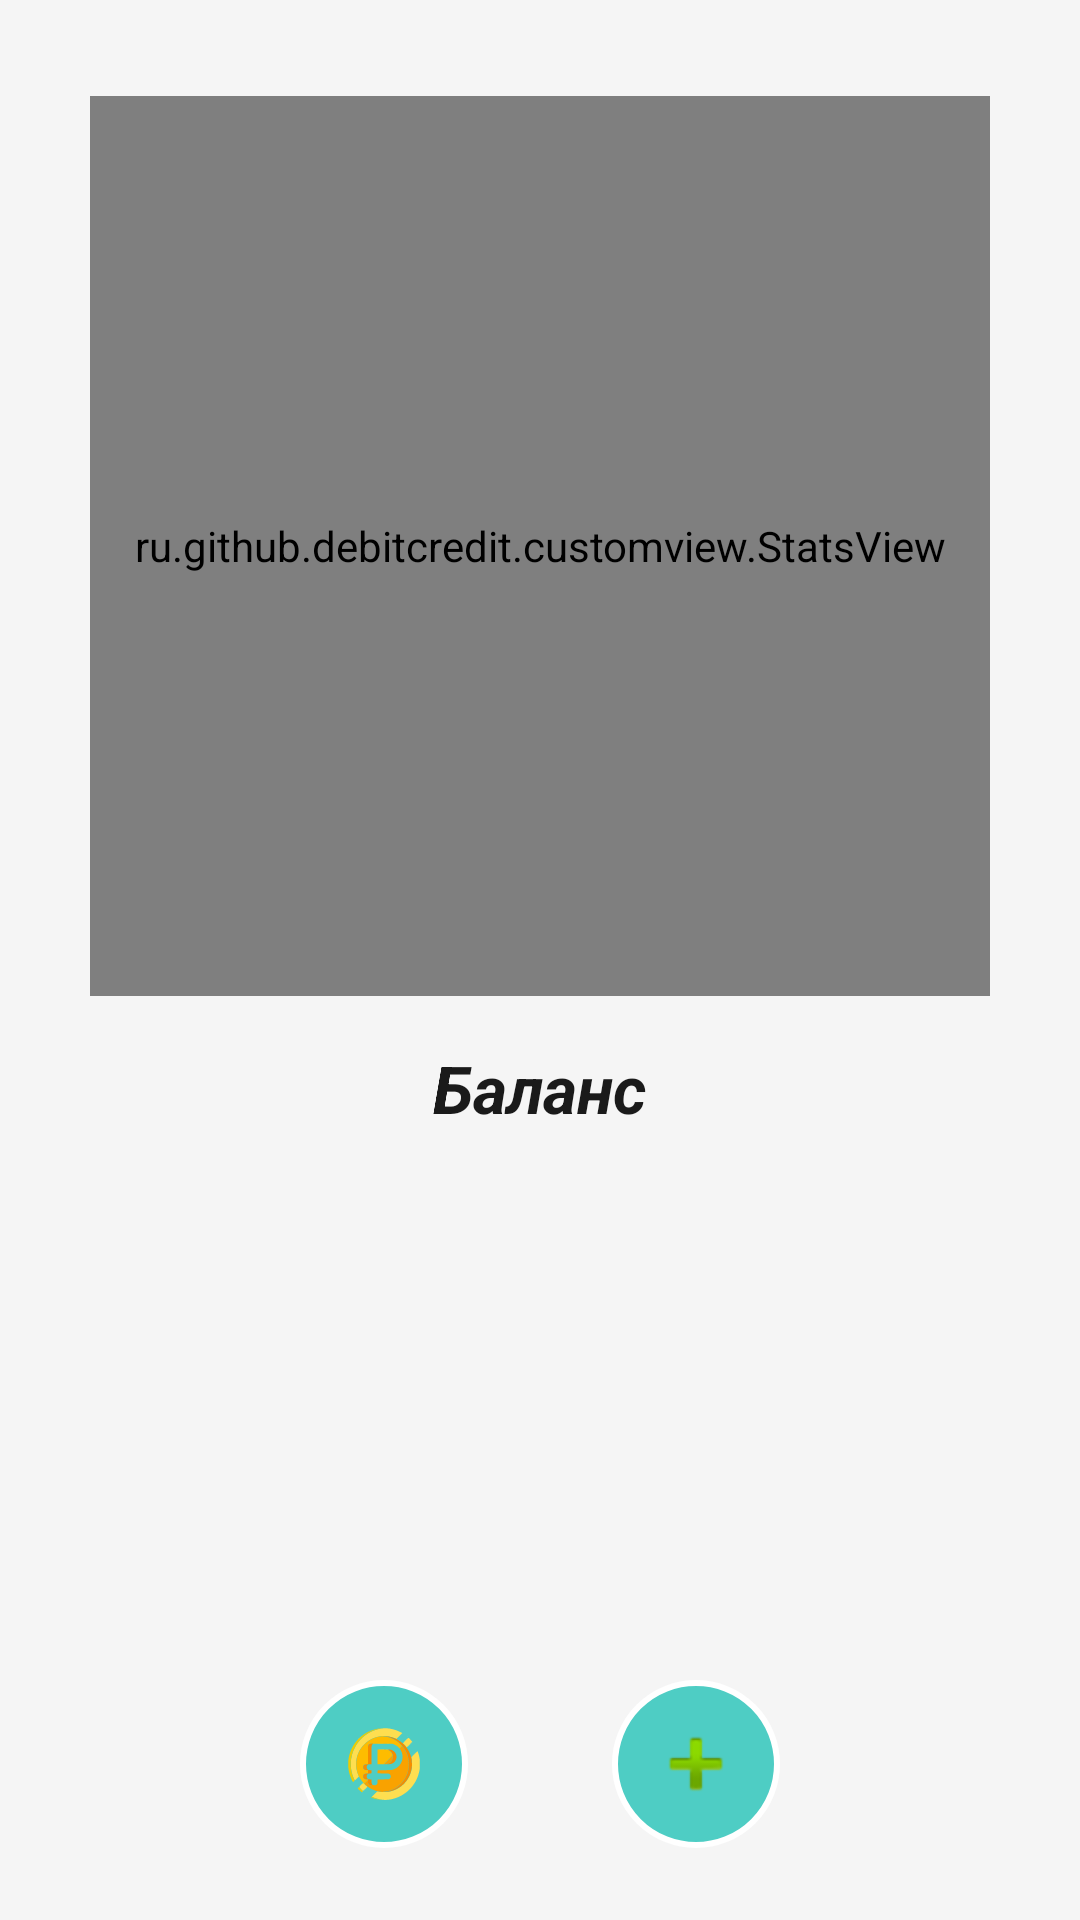

Named icons in this screenshot (1080*1920) and their bounding boxes, Rect(x1, y1, x2, y2):
Добавить категорию: Rect(618, 1686, 774, 1842)
Доход: Rect(306, 1686, 462, 1842)
